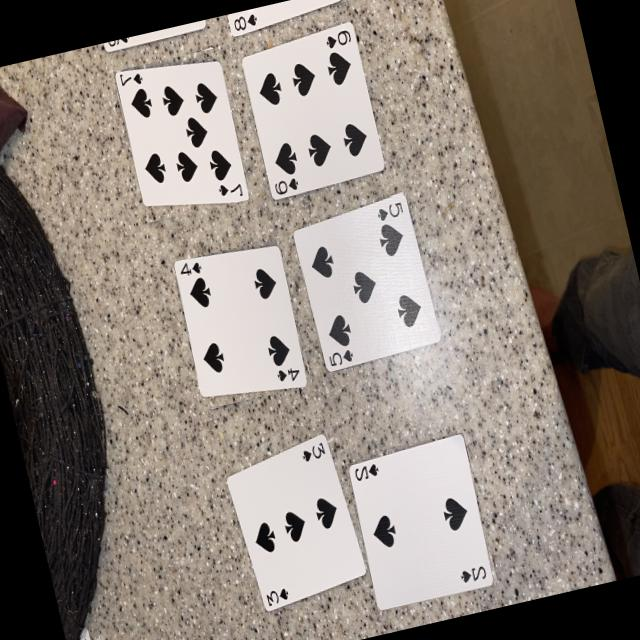2 of spades: (349, 432, 492, 608)
3 of spades: (227, 432, 366, 610)
4 of spades: (174, 244, 307, 396)
5 of spades: (294, 192, 440, 370)
6 of spades: (241, 21, 384, 198)
7 of spades: (114, 57, 248, 204)
8 of spades: (227, 0, 333, 34)
